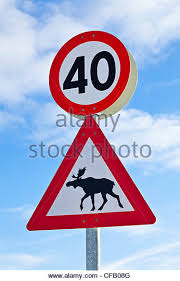Speed_limit_40km: (46, 28, 130, 117)
